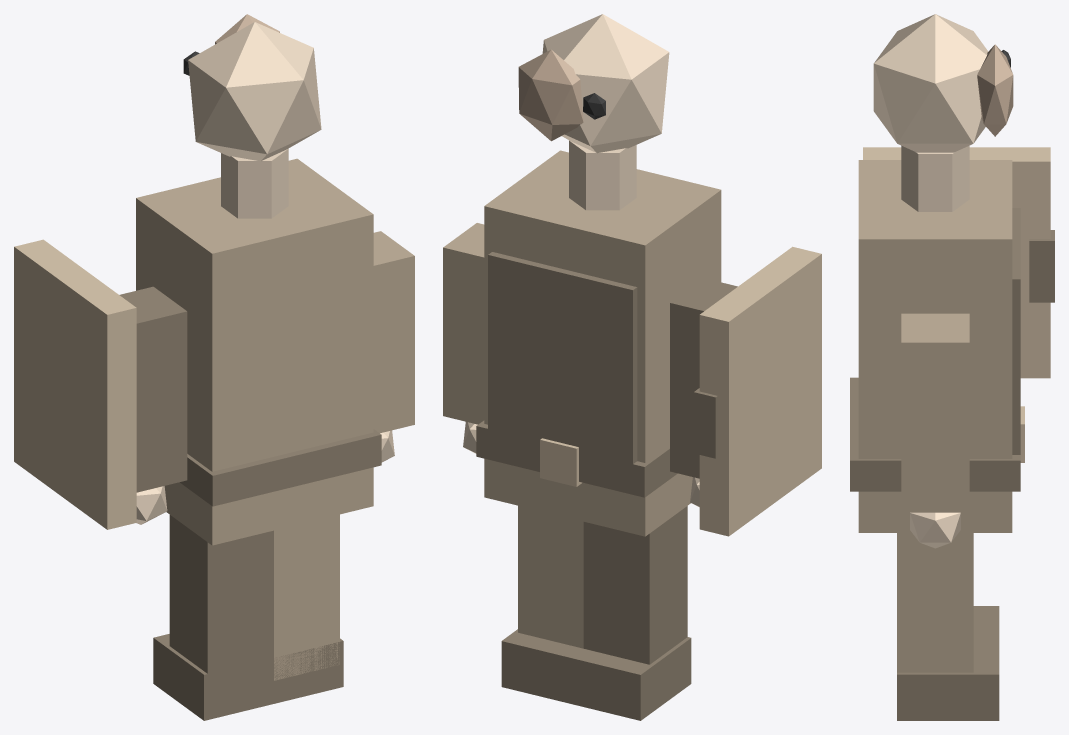
File: guardian.glb
The picture shows the model from 3 angles, left to right: view 1: azimuth 30°, elevation 25°; view 2: azimuth 150°, elevation 25°; view 3: azimuth 270°, elevation 25°; orthographic projection.
Parts seen in each view (by area): view 1: guardian; view 2: guardian; view 3: guardian.
Boxes of the visible parts, <box> form: guardian: <box>14,14,414,720</box>; guardian: <box>443,14,821,720</box>; guardian: <box>850,14,1054,720</box>.
Bounding box in the file's own units: 0.89 × 1.74 × 0.48.
